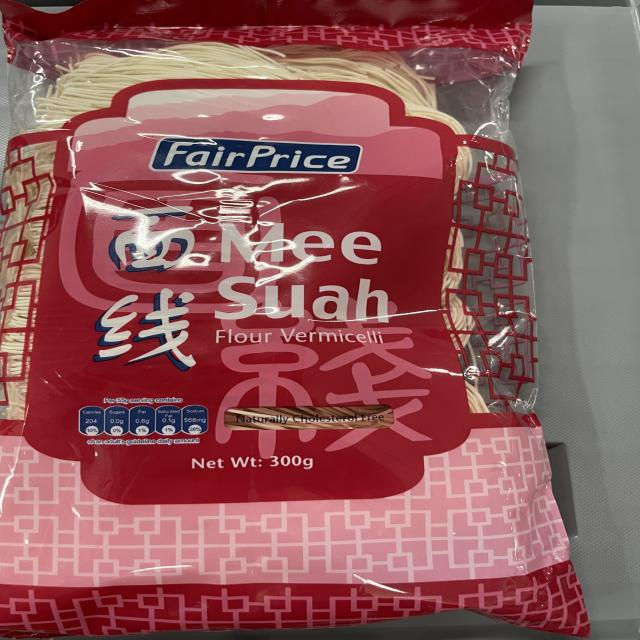object_name: (0, 12, 547, 636)
